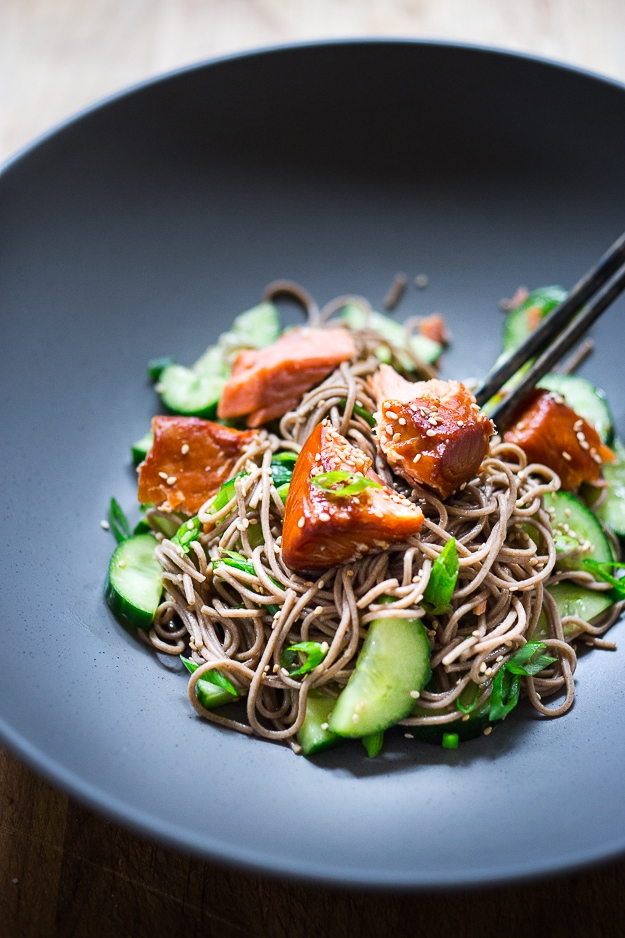Soba: (70, 319, 625, 764)
